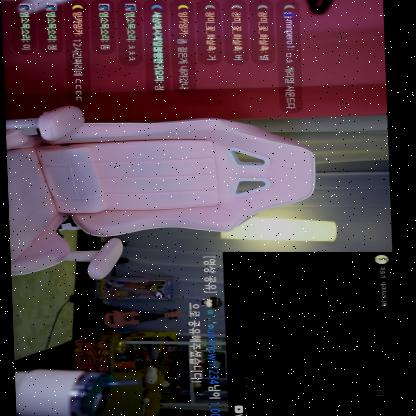donation: (180, 252, 393, 416)
